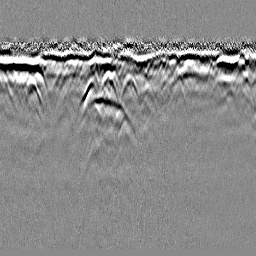cavity: (119, 71, 141, 103)
